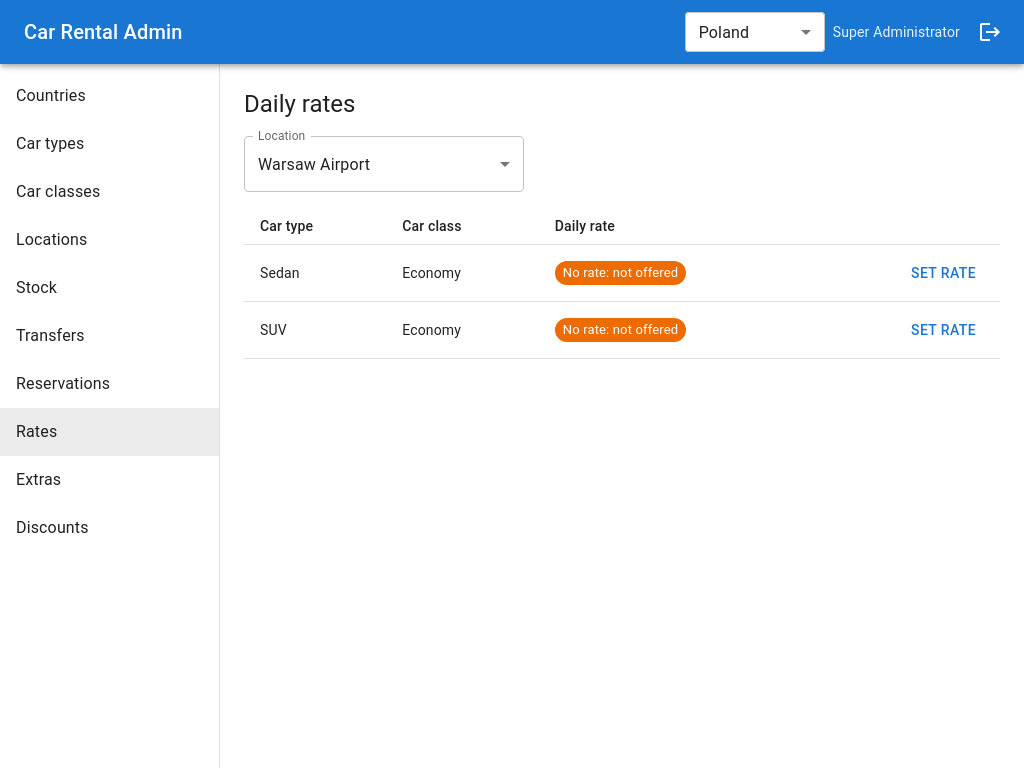
it: Daily rates › shows the explanation of a refused rate
This screenshot has width=1024, height=768.
Click the button with aria-label "Set rate of Sedan Economy". click: point(944, 273)
box: [903,251,984,295]
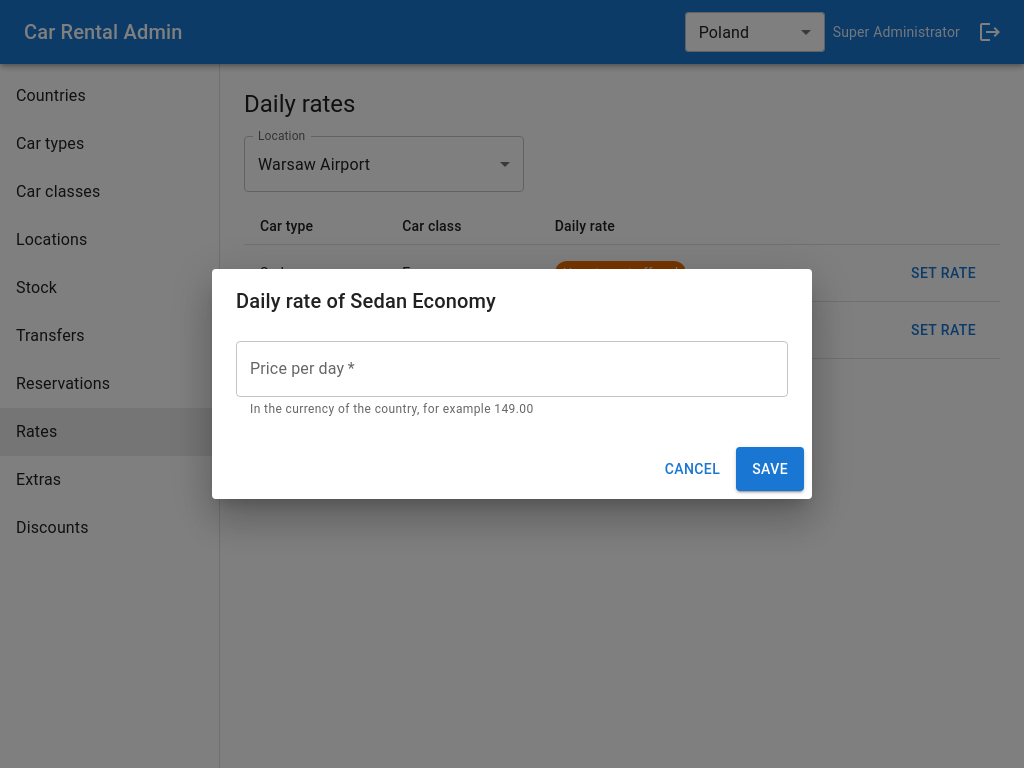
Type "0" into the field labelled "Price per day *". click: point(512, 368)
box: [236,340,788,396]
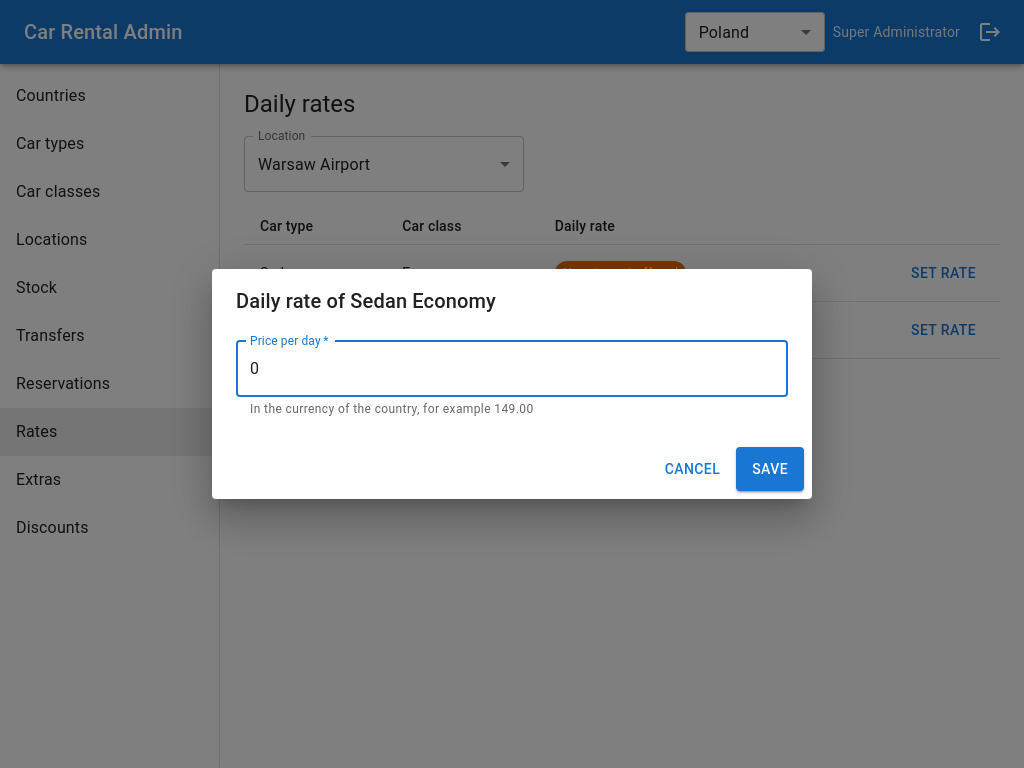
Click the button "Save". click: point(770, 470)
box: [736,448,804,492]
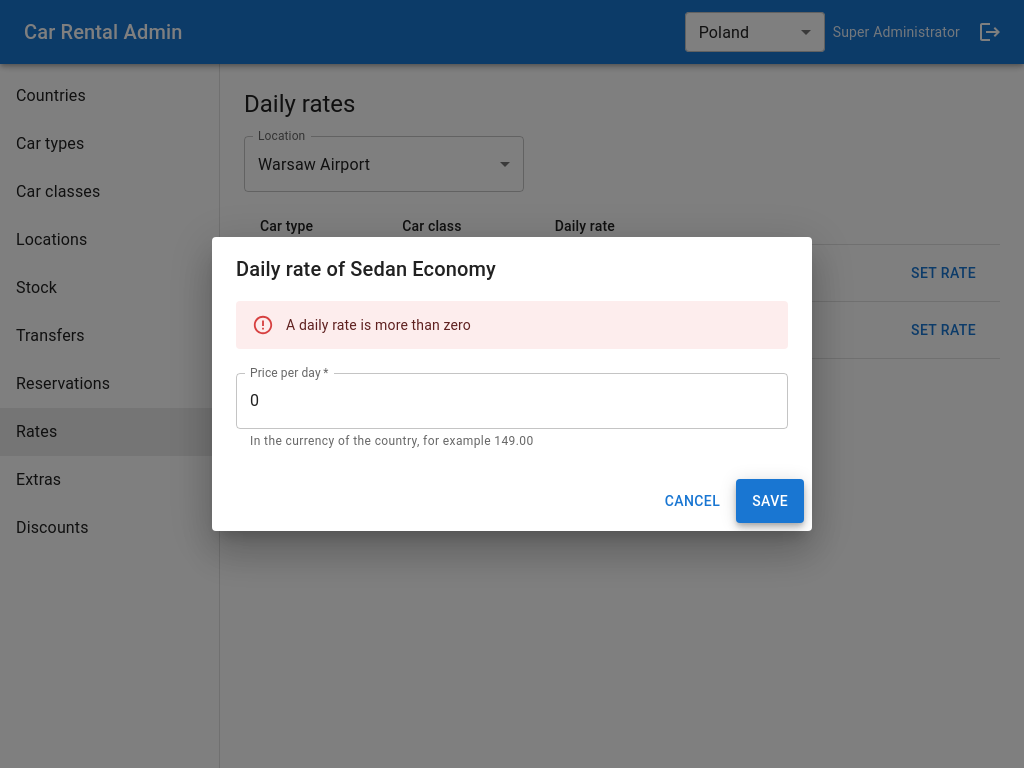
Check: the text "A daily rate is more than zero" is shown, box [286,316,471,332]
